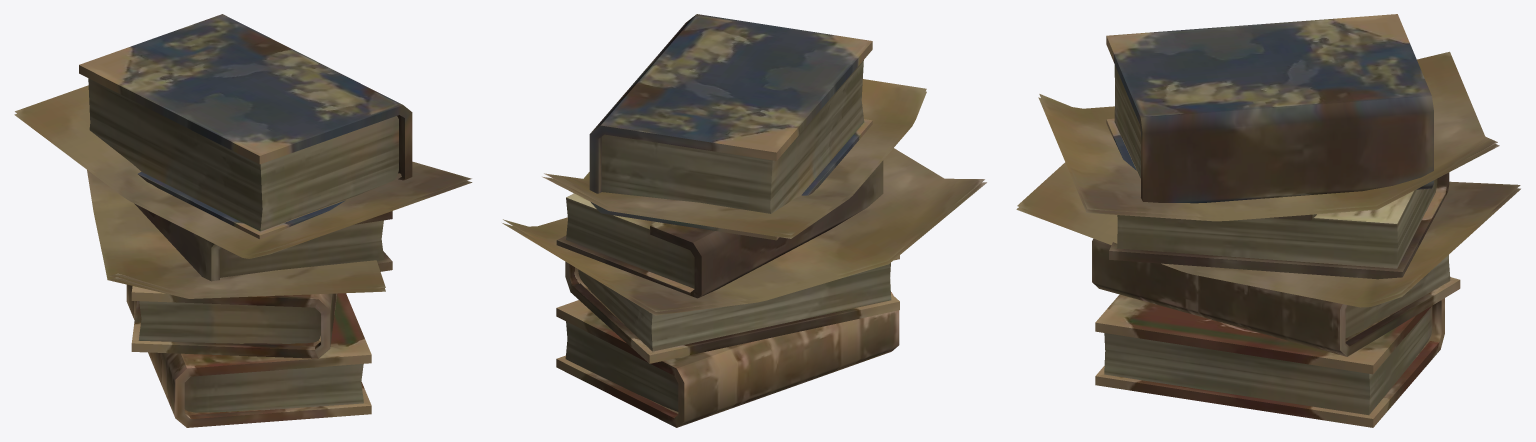
The picture shows the model from 3 angles, left to right: view 1: azimuth 30°, elevation 25°; view 2: azimuth 150°, elevation 25°; view 3: azimuth 270°, elevation 25°; orthographic projection. The views are drawn at different scales.
Visible parts, largest first — view 1: SM_DR_BookStack_13_LOD0; view 2: SM_DR_BookStack_13_LOD0; view 3: SM_DR_BookStack_13_LOD0.
Part boxes in pixels (bbox=[...]): SM_DR_BookStack_13_LOD0: bbox=[14, 14, 472, 427]; SM_DR_BookStack_13_LOD0: bbox=[502, 14, 986, 427]; SM_DR_BookStack_13_LOD0: bbox=[1016, 14, 1520, 427].
Size of the model in its own units: 0.5659 by 0.4206 by 0.6536.
1 material, 1 textured.
